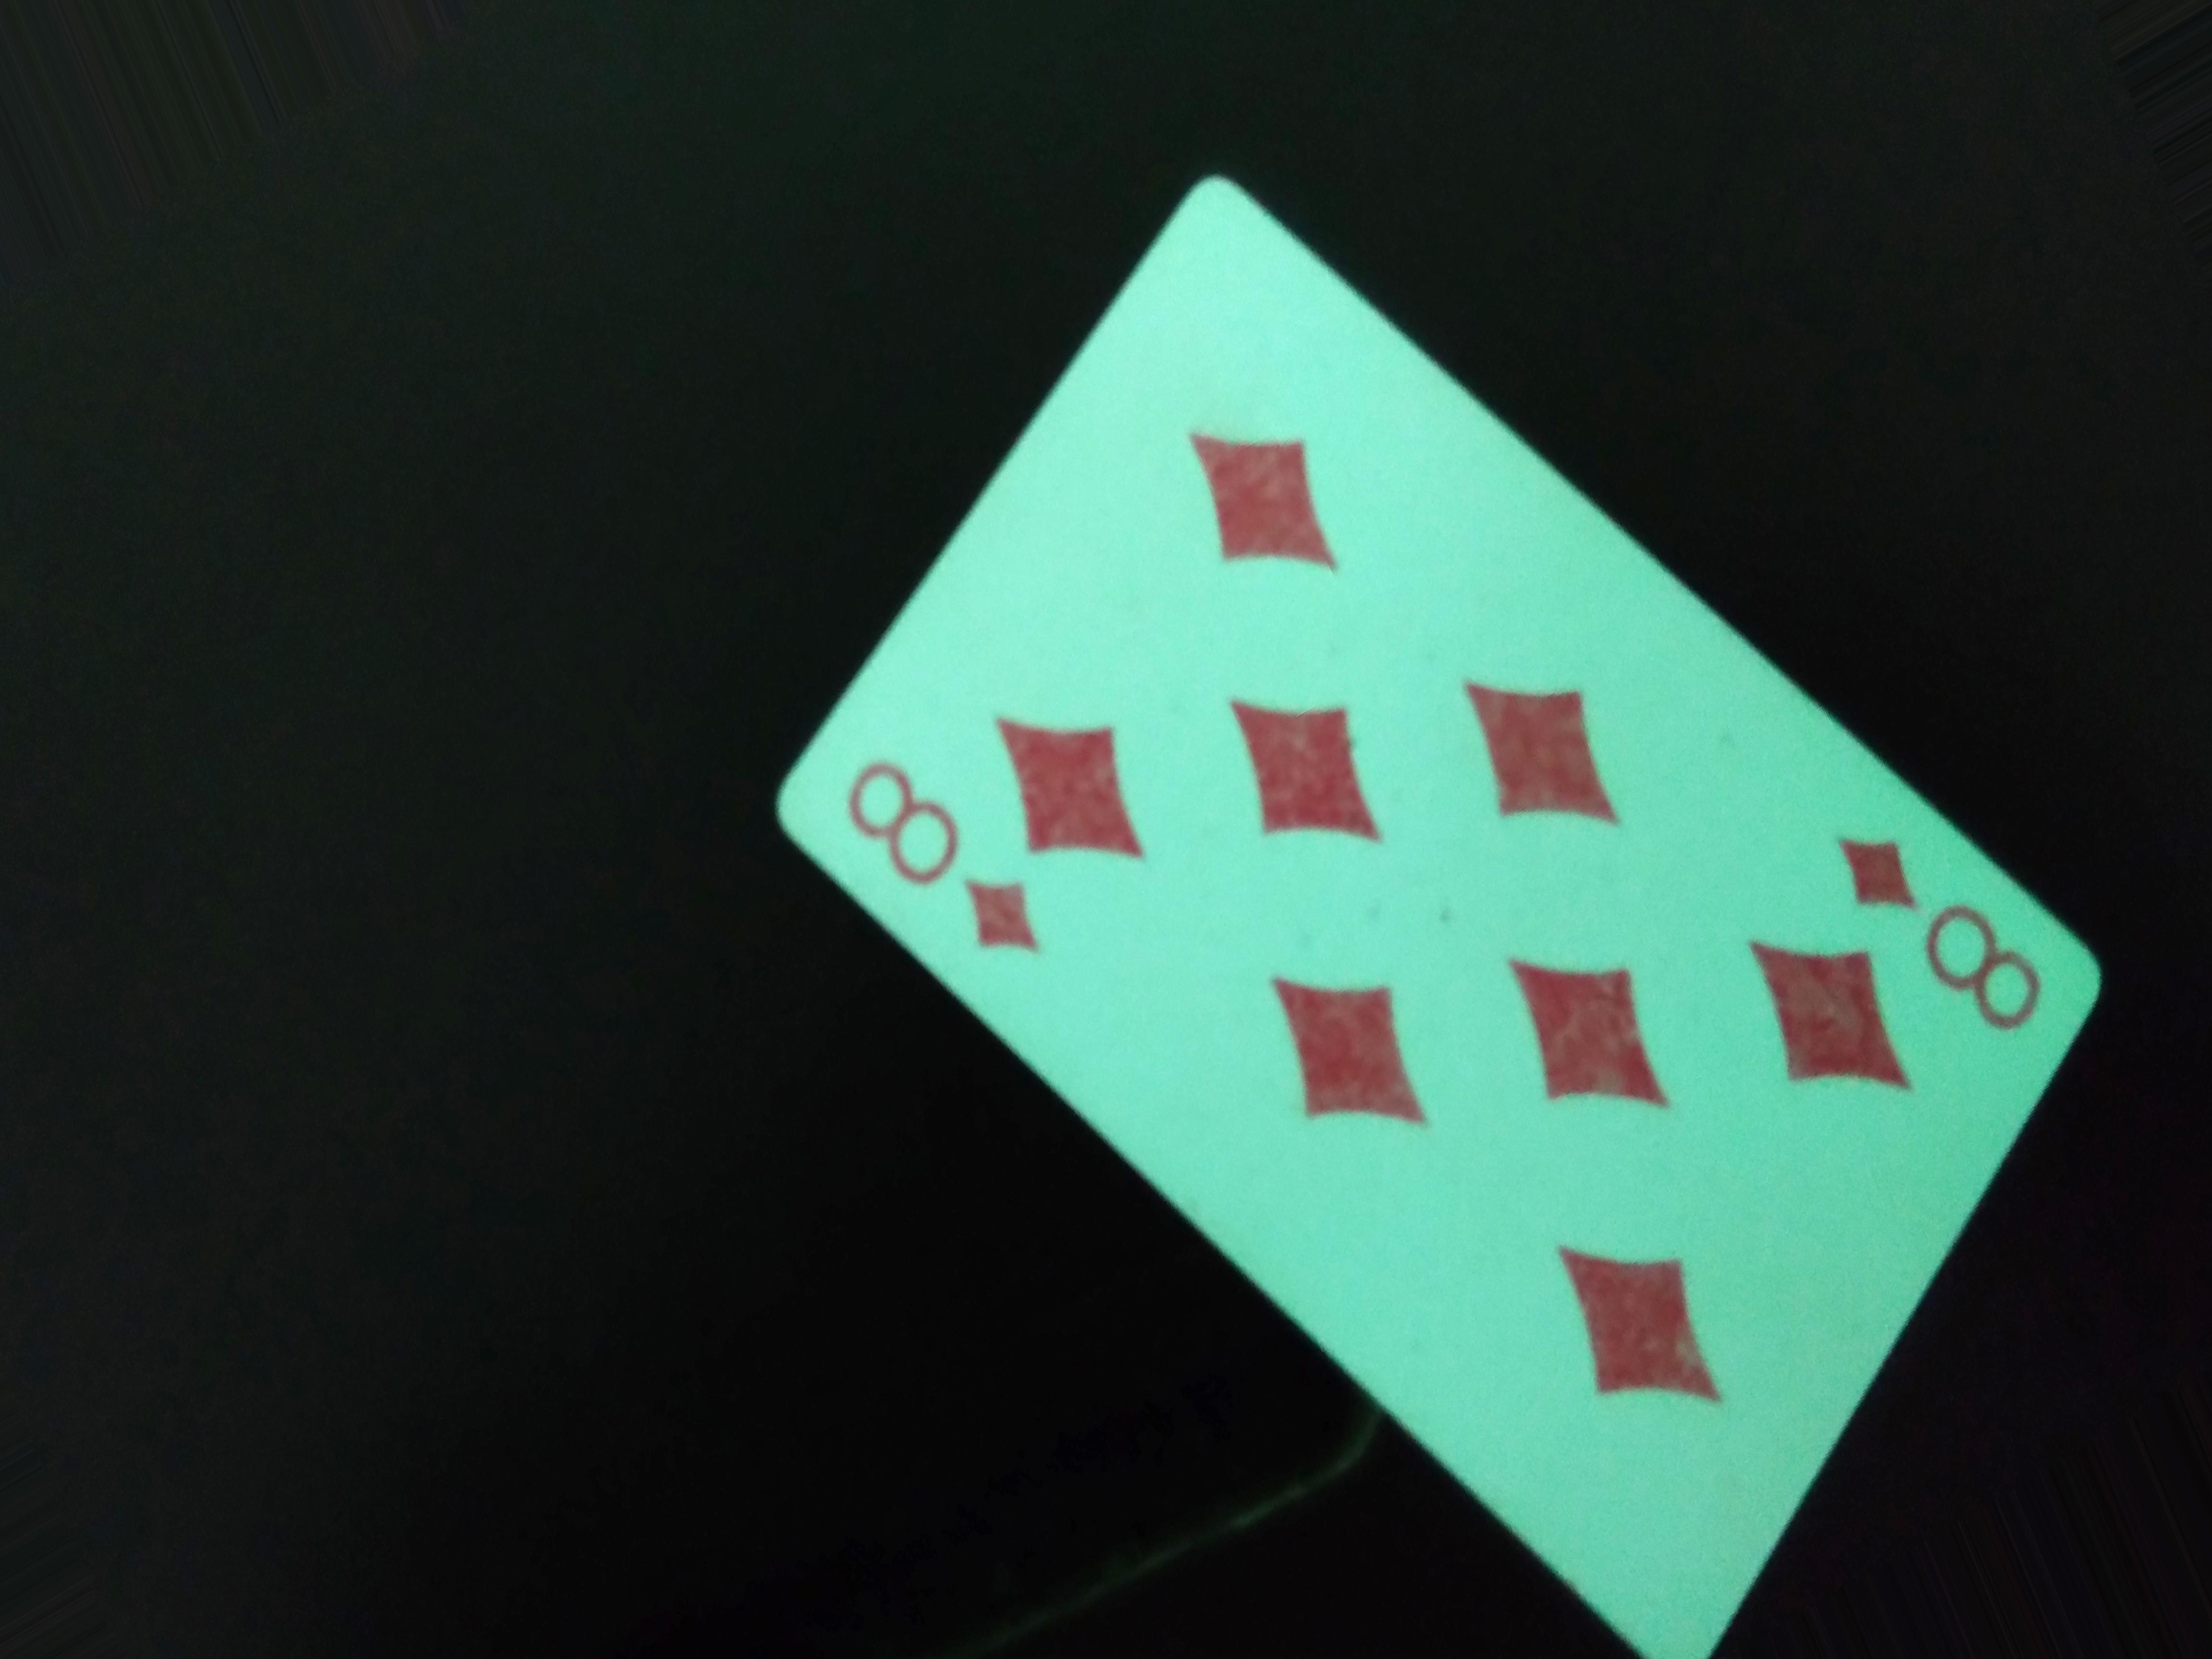8D: (1778, 810, 2066, 1066)
